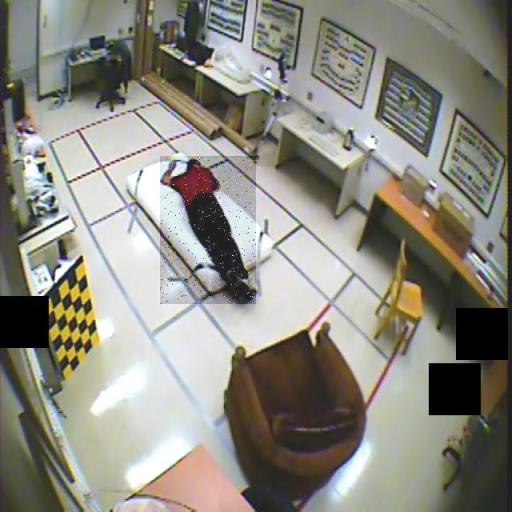Fall: (160, 156, 256, 304)
